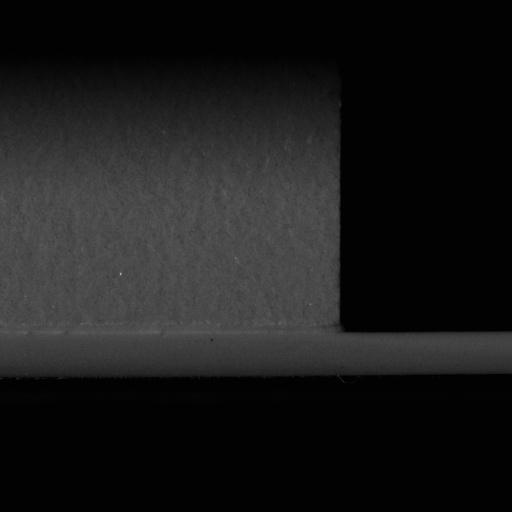changdai: (330, 328, 511, 377)
